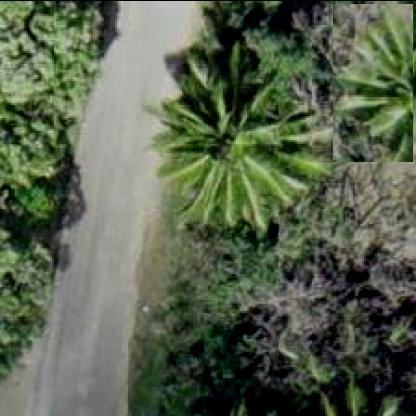coconut tree: (141, 35, 344, 238), (333, 2, 414, 161)
